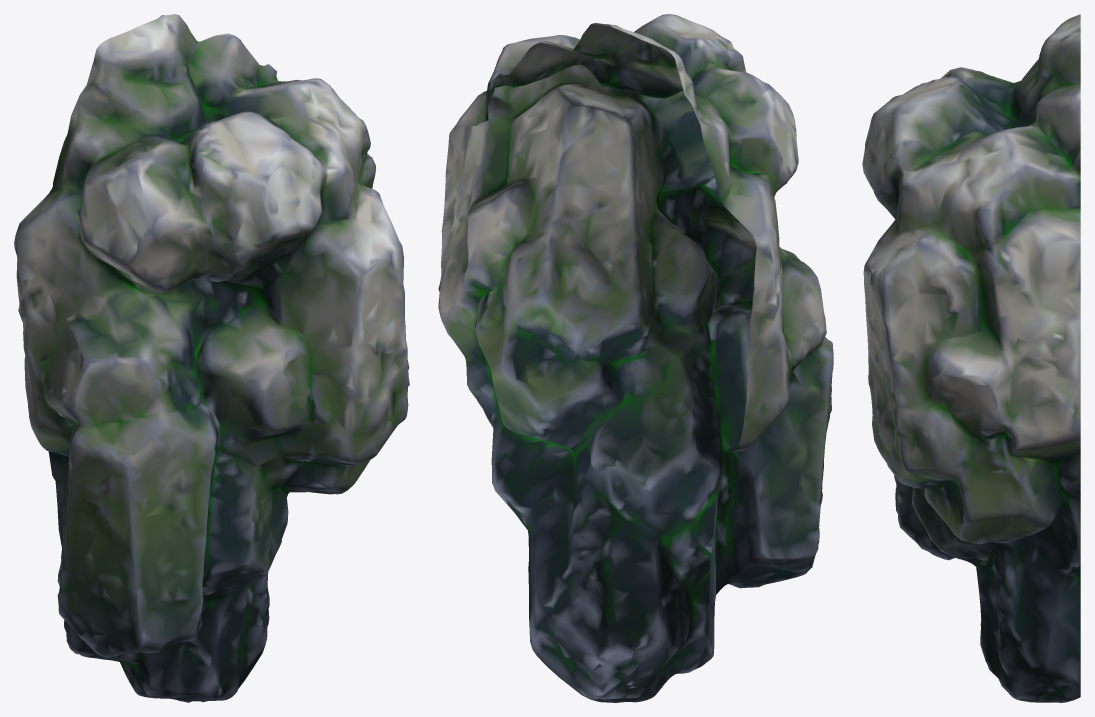
Rendered from M_Cliff_Rock_T12.fbx.
3 views of the same model, side by side, from view 1: azimuth 30°, elevation 25°; view 2: azimuth 150°, elevation 25°; view 3: azimuth 270°, elevation 25° (orthographic). The views are drawn at different scales.
Visible parts, largest first — view 1: M_Cliff_Rock_T12; view 2: M_Cliff_Rock_T12; view 3: M_Cliff_Rock_T12.
Boxes of the visible parts, bbox=[...] form: M_Cliff_Rock_T12: bbox=[14, 14, 409, 702]; M_Cliff_Rock_T12: bbox=[438, 14, 833, 702]; M_Cliff_Rock_T12: bbox=[862, 14, 1080, 702].
Size of the model in its own units: 12.4 by 23.46 by 7.
